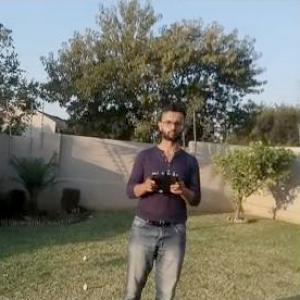follow: (120, 89, 212, 299)
